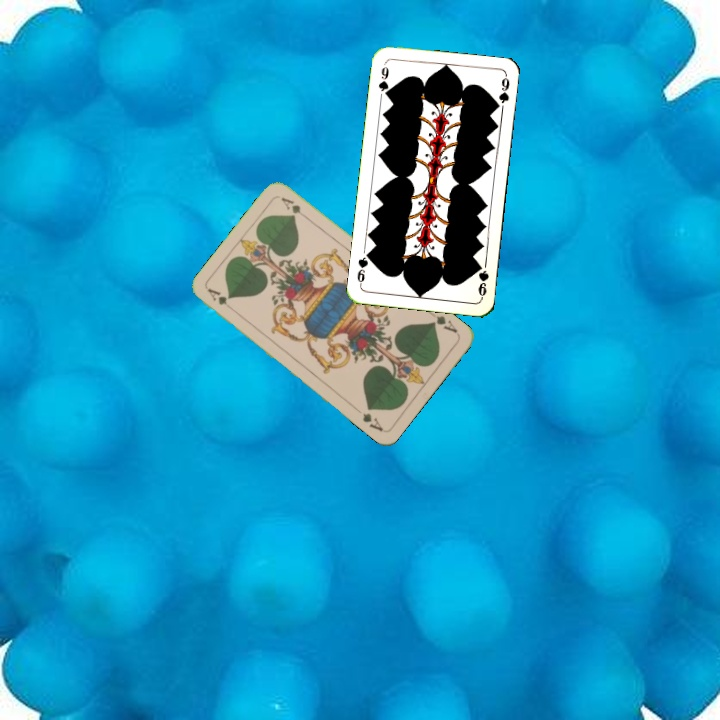G9: (473, 259, 491, 301), (374, 60, 392, 99)
GA: (425, 308, 460, 336), (203, 284, 230, 308)
